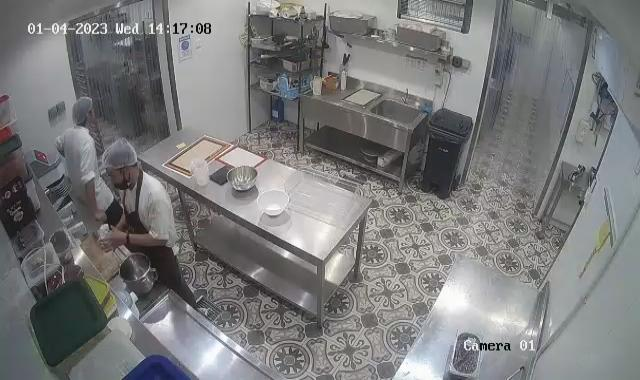hairnet: (102, 136, 138, 174), (70, 96, 92, 125)
